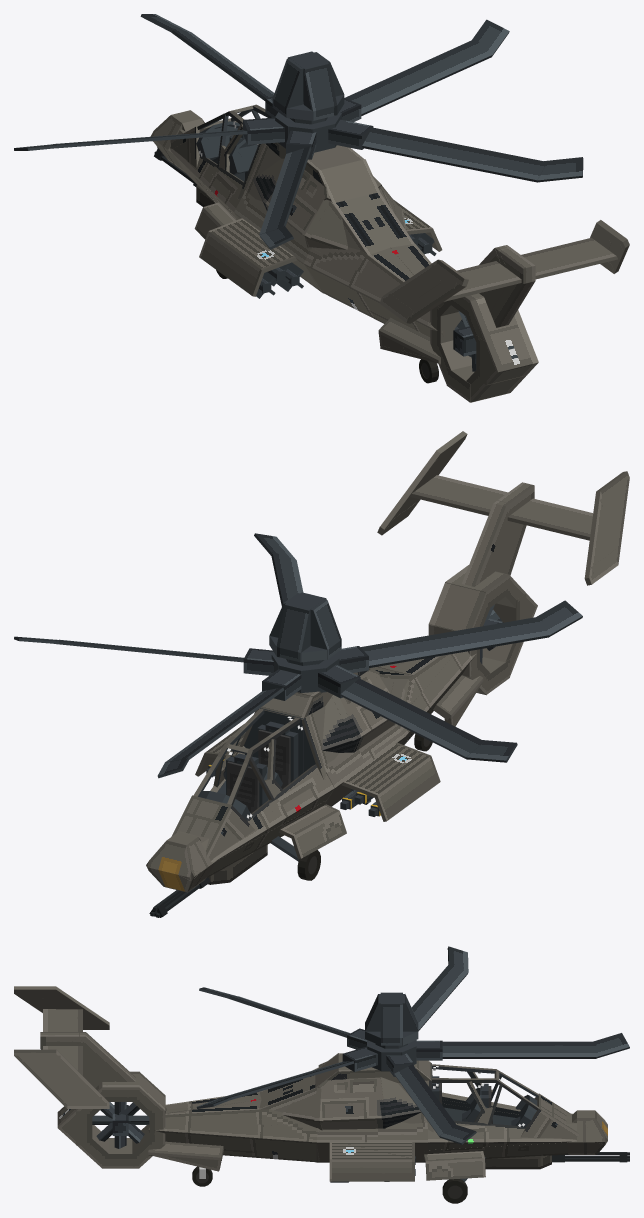
The model's file is rah-66.gltf.
3 renders of one model, top to bottom at view 1: azimuth 30°, elevation 25°; view 2: azimuth 150°, elevation 25°; view 3: azimuth 270°, elevation 25°, orthographic. The views are drawn at different scales.
Parts seen in each view (by area): view 1: cube (×39); view 2: cube (×41); view 3: cube (×60).
Boxes of the visible parts, x1=… form: cube (×39): x1=53, y1=19, x2=617, y2=402; cube (×41): x1=54, y1=451, x2=615, y2=877; cube (×60): x1=14, y1=946, x2=629, y2=1181.
Bounding box in the file's own units: 10.84 × 4.95 × 14.78.
1 material, 1 textured.
